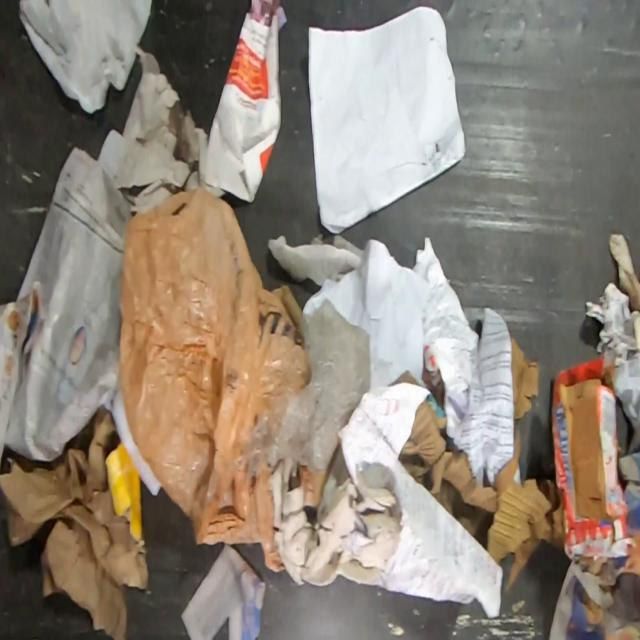cardboard: (551, 353, 635, 562), (398, 397, 499, 550), (486, 426, 563, 594), (509, 331, 541, 420), (386, 370, 424, 388), (618, 440, 624, 458)
soft_plastic: (118, 185, 312, 574), (238, 296, 372, 477), (18, 0, 153, 116), (298, 467, 329, 508)
